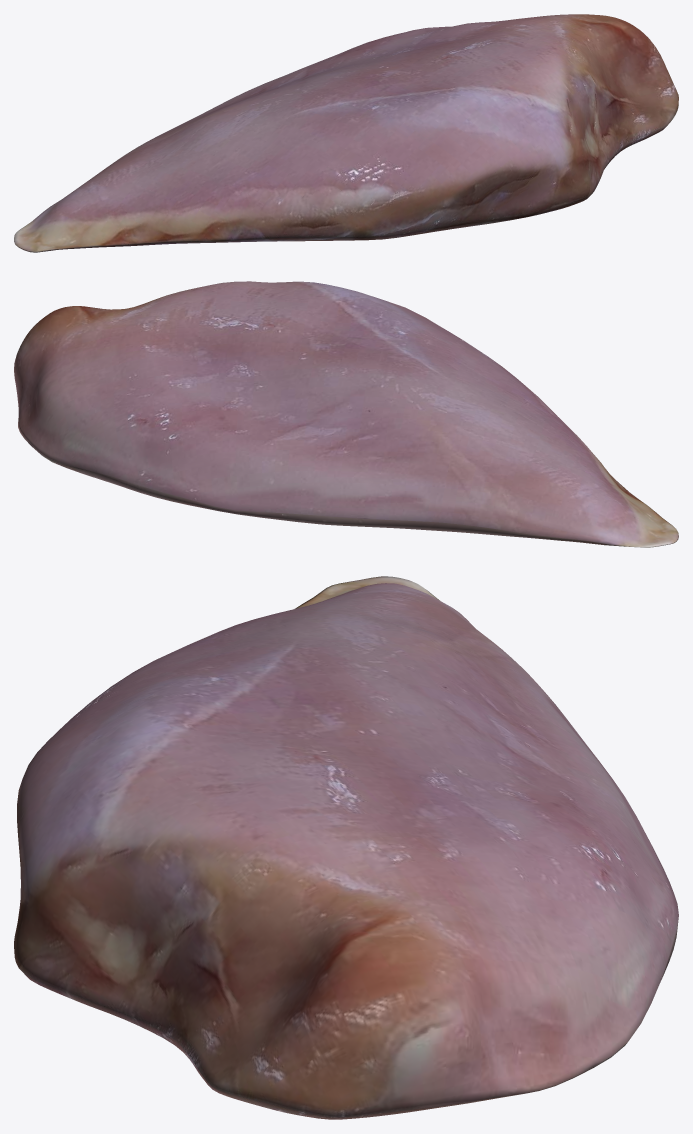
File: chicken-raw.glb
The picture shows the model from 3 angles, top to bottom: view 1: azimuth 30°, elevation 25°; view 2: azimuth 150°, elevation 25°; view 3: azimuth 270°, elevation 25°; orthographic projection. The views are drawn at different scales.
Parts seen in each view (by area): view 1: Plane.001_0; view 2: Plane.001_0; view 3: Plane.001_0.
Boxes of the visible parts, x1,y1,x2,y2 form: Plane.001_0: (14,14,678,252); Plane.001_0: (14,281,678,547); Plane.001_0: (14,576,678,1119).
Size of the model in its own units: 0.2249 by 0.0438 by 0.1147.
Materials: 1 (1 with a texture image).
